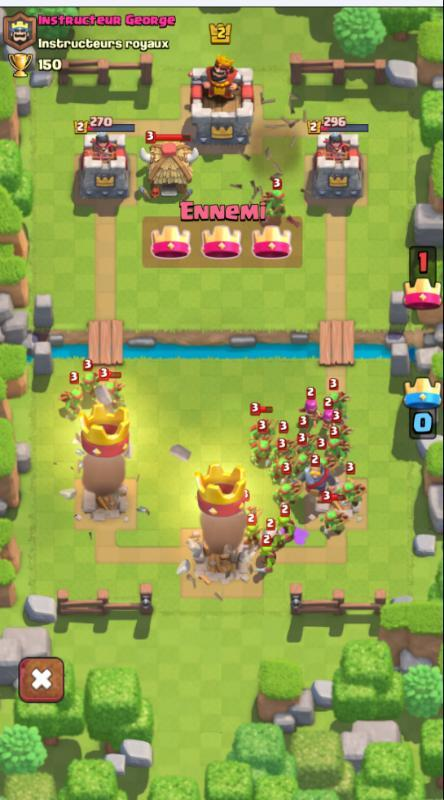enemy_archers: (296, 387, 322, 422)
enemy_goblin_hut: (135, 128, 200, 200)
enemy_knight: (294, 454, 337, 494)
enemy_spear_goblins: (313, 496, 349, 536), (268, 462, 299, 505), (337, 465, 367, 509), (250, 534, 282, 573), (268, 506, 300, 544), (55, 377, 86, 415), (244, 403, 276, 438), (98, 364, 126, 403), (261, 181, 290, 218), (246, 432, 279, 464), (320, 427, 353, 459), (289, 428, 322, 460), (239, 513, 264, 551), (74, 363, 101, 397), (323, 378, 350, 411)
